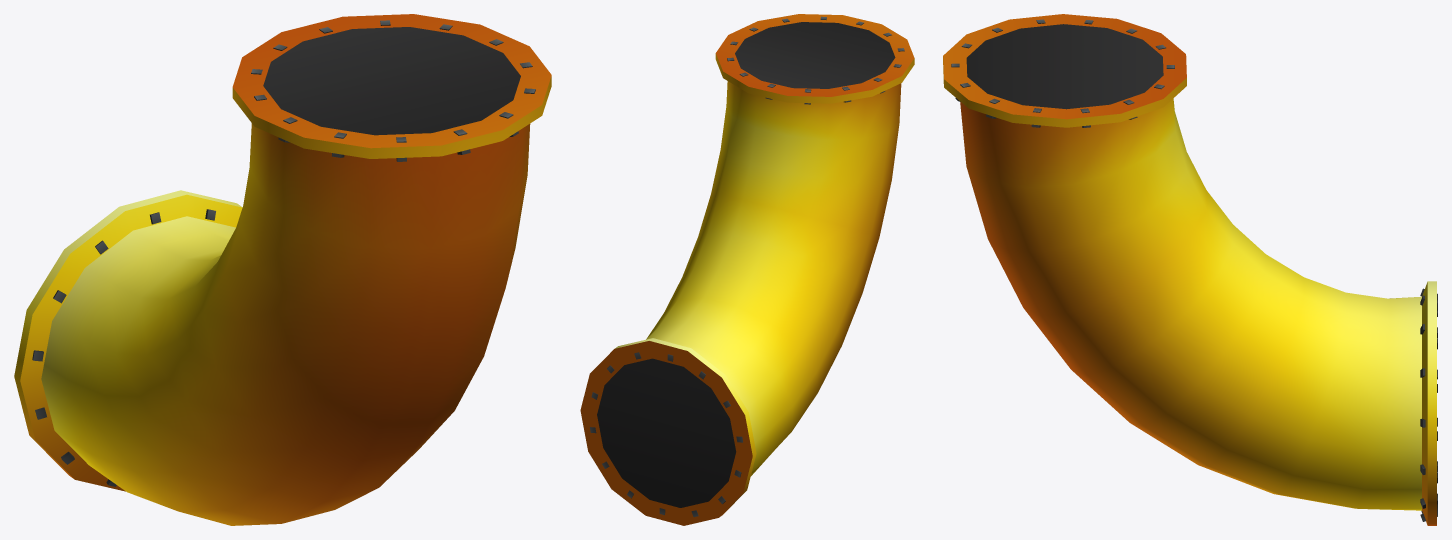
Rendered from Giant_Pipe_1E.fbx.
3 renders of one model, left to right at view 1: azimuth 30°, elevation 25°; view 2: azimuth 150°, elevation 25°; view 3: azimuth 270°, elevation 25°, orthographic. The views are drawn at different scales.
Visible parts, largest first — view 1: Giant_Pipe_1E; view 2: Giant_Pipe_1E; view 3: Giant_Pipe_1E.
Part boxes in pixels (<box>): Giant_Pipe_1E: <box>14,14,551,525</box>; Giant_Pipe_1E: <box>580,14,914,525</box>; Giant_Pipe_1E: <box>943,14,1437,525</box>.
Size of the model in its own units: 2 by 3.97 by 3.97.
